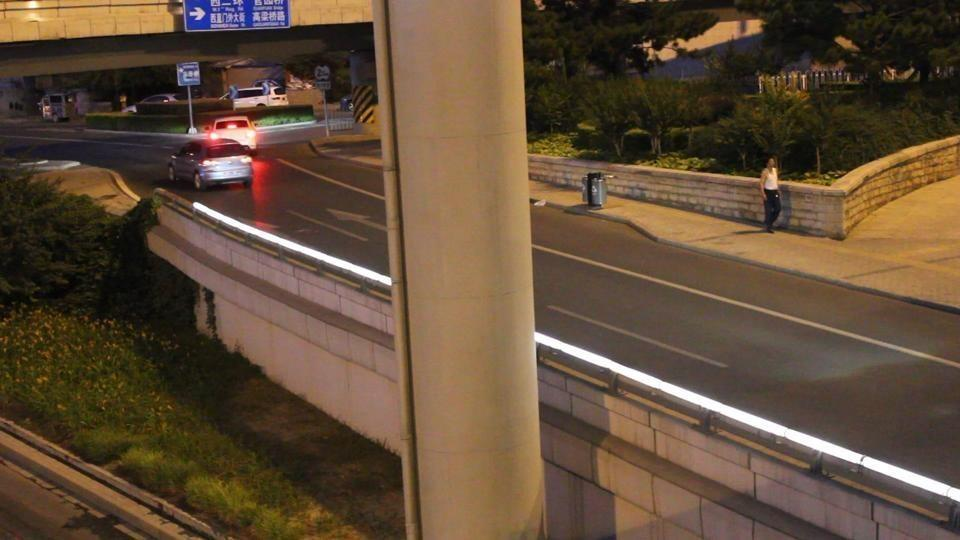car: (167, 136, 254, 190), (201, 114, 258, 153), (227, 82, 278, 110), (39, 93, 71, 123), (130, 93, 182, 109)
